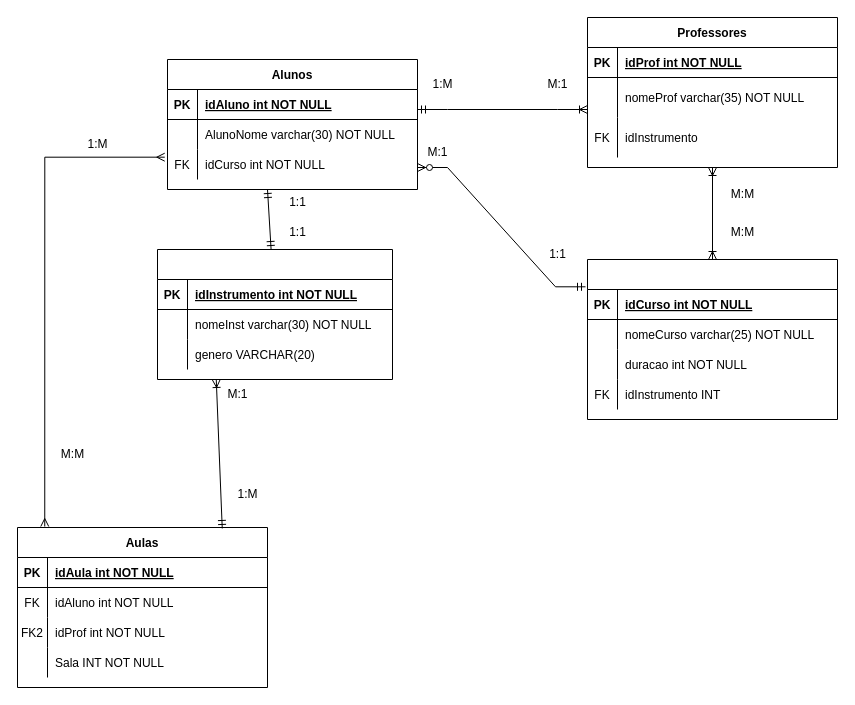
The diagram is 855 pixels wide and 705 high, and some of its shapes have lost their labels. Each missing label, with the box of its shape:
Cursos: (586, 258, 838, 420)
Instrumentos: (156, 248, 392, 380)
